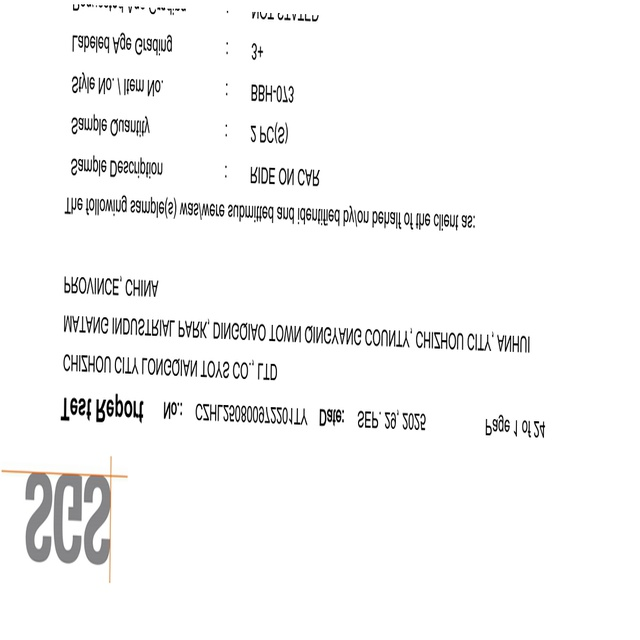sgs: (24, 471, 112, 564)
